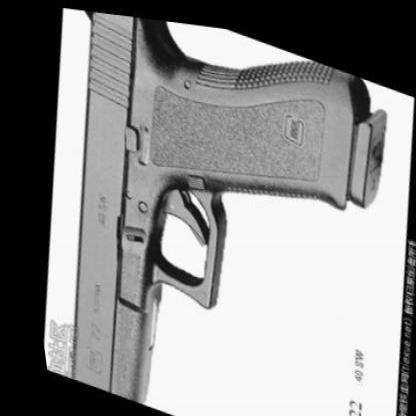pistol: (13, 1, 415, 414)
